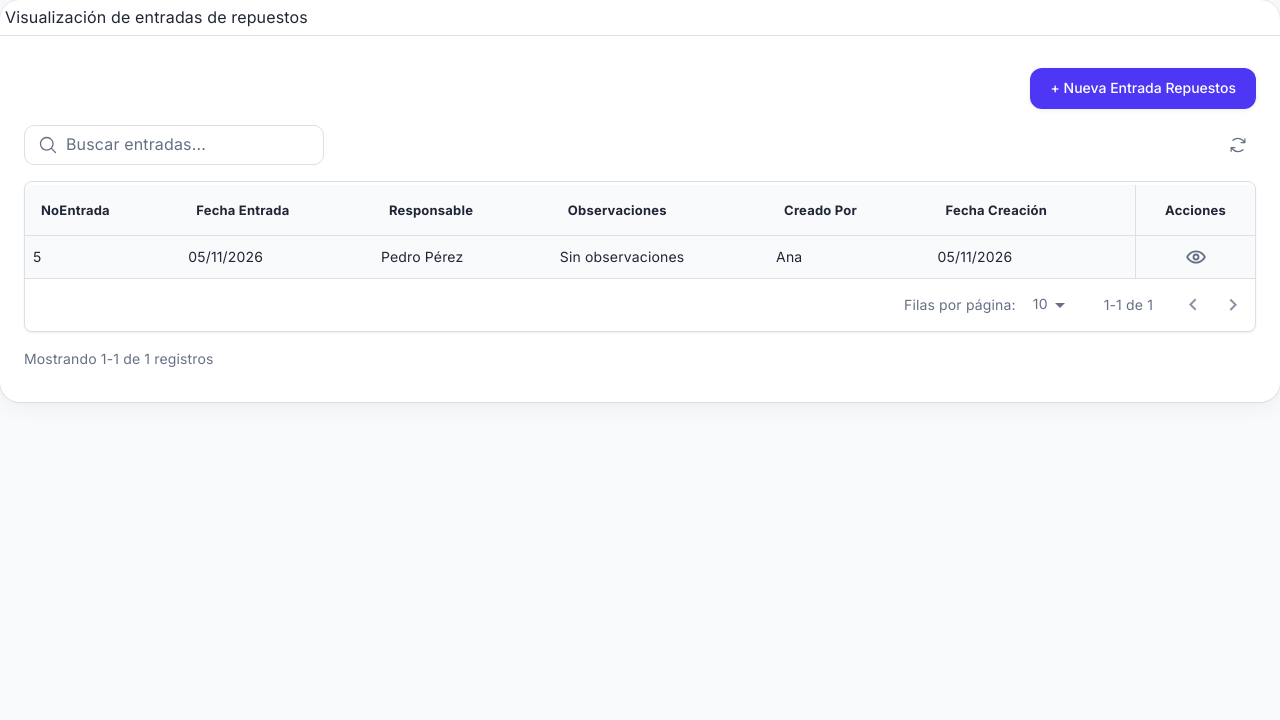
Listado de entradas de repuestos › lista, abre el detalle de un movimiento y lo cierra
expect the text "Sin observaciones" is shown: met, box [560,248,684,265]
expect the button "+ Nueva Entrada Repuestos" is shown: met, box [1030,68,1256,109]
Click the 3rd button at (1196, 257), box [1180,242,1210,272]
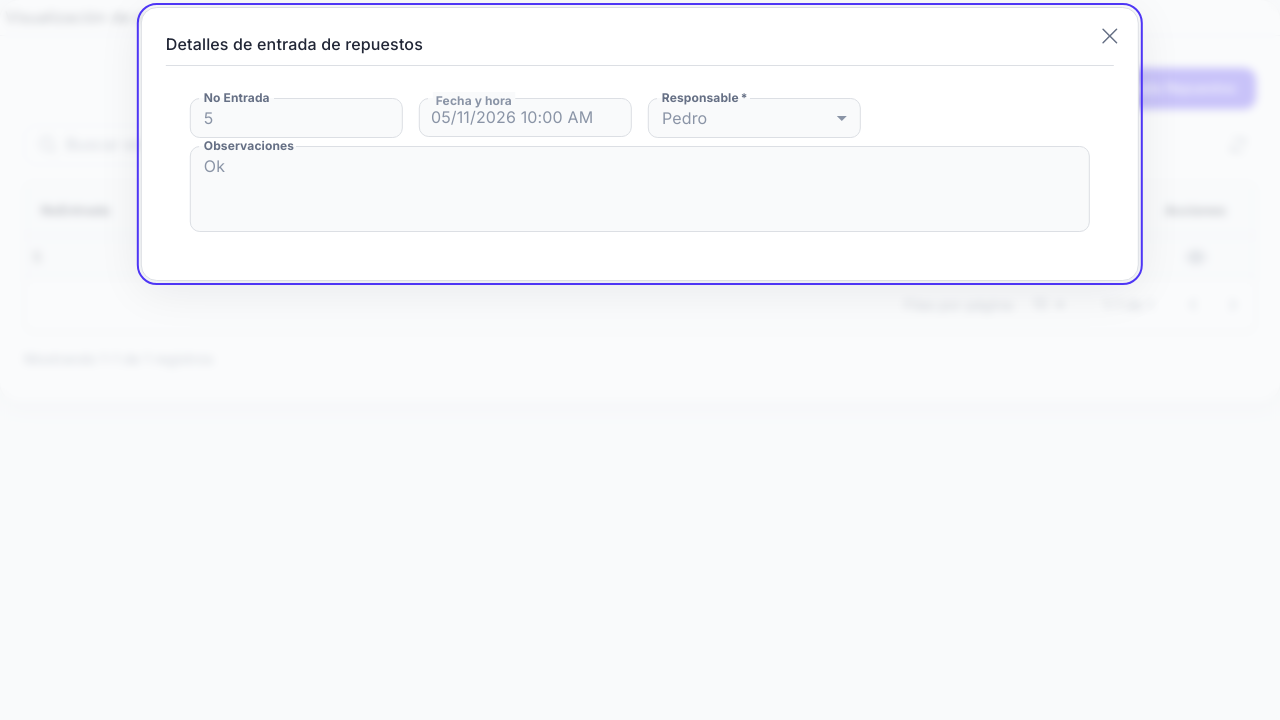
expect the heading "Detalles de entrada de repuestos" is shown: met, box [166,34,423,54]
Click the button at (1110, 36), box [1090,16,1130,56]
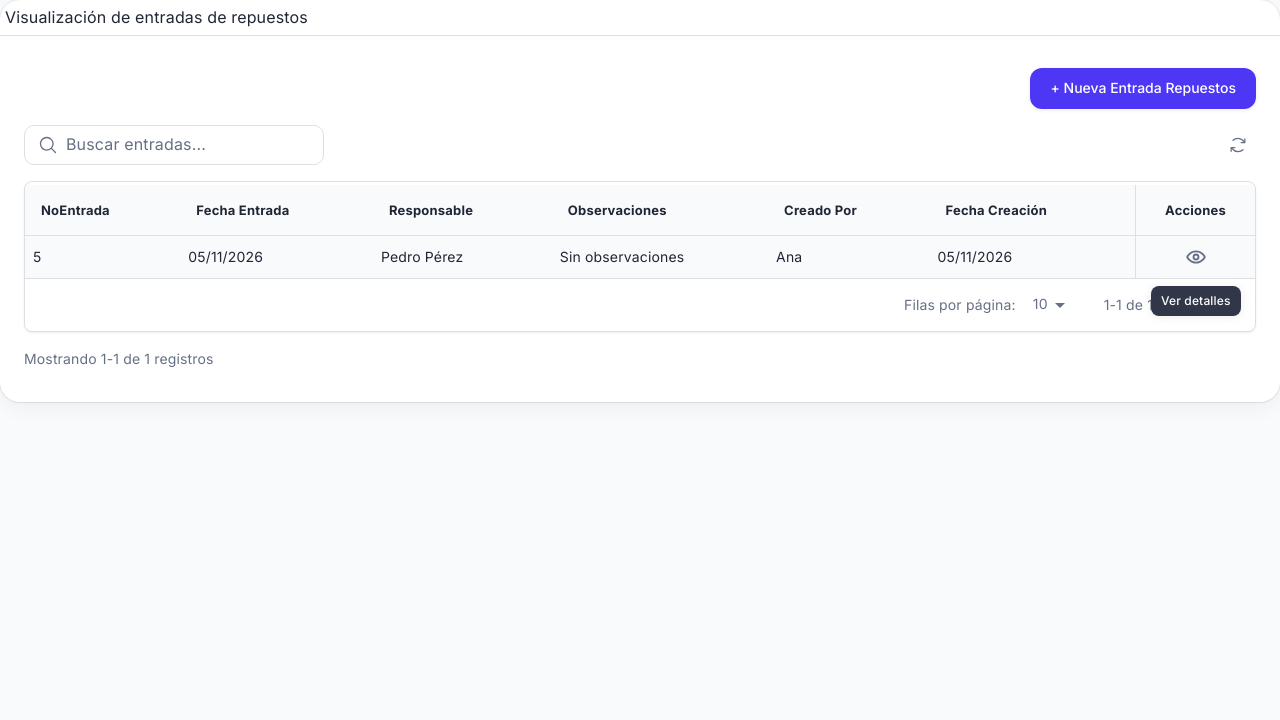
expect the heading "Detalles de entrada de repuestos" is gone: met
